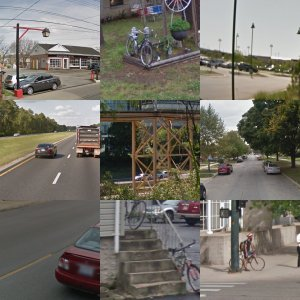公車: (99, 122, 172, 197), (31, 99, 96, 147), (172, 227, 200, 266)
汽車: (206, 26, 300, 99), (167, 104, 199, 164), (1, 208, 34, 246), (258, 243, 279, 256), (217, 240, 240, 251)
紅綠燈: (159, 37, 181, 74)
